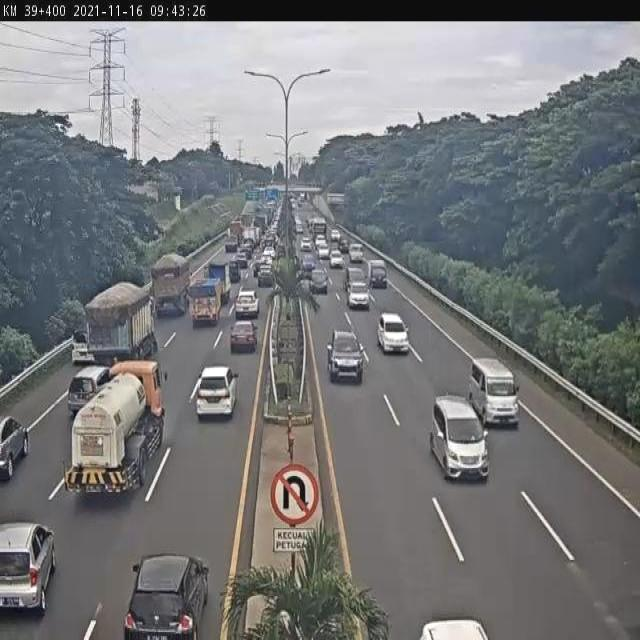Bus: (311, 215, 328, 240)
Car: (122, 554, 209, 640), (0, 522, 58, 616), (430, 396, 489, 480), (194, 364, 240, 419), (67, 364, 114, 416), (326, 329, 365, 386), (0, 415, 30, 481), (419, 617, 491, 639), (377, 312, 409, 354), (230, 320, 259, 353), (70, 329, 95, 365), (235, 288, 261, 320), (347, 280, 370, 309), (310, 268, 329, 295), (257, 265, 274, 288), (301, 252, 317, 276), (252, 258, 270, 278), (348, 243, 364, 263), (236, 246, 252, 266), (228, 260, 241, 283), (330, 249, 344, 268), (262, 246, 276, 262), (318, 243, 330, 260), (314, 234, 326, 250), (330, 229, 341, 243), (301, 238, 312, 252), (339, 238, 349, 253), (260, 254, 273, 264), (295, 223, 303, 234)
Truck: (61, 359, 170, 497), (84, 280, 158, 366), (150, 252, 192, 317), (188, 277, 224, 327), (207, 258, 234, 306), (367, 258, 388, 290), (229, 219, 243, 239), (224, 235, 239, 253)
Van: (469, 357, 520, 428)
